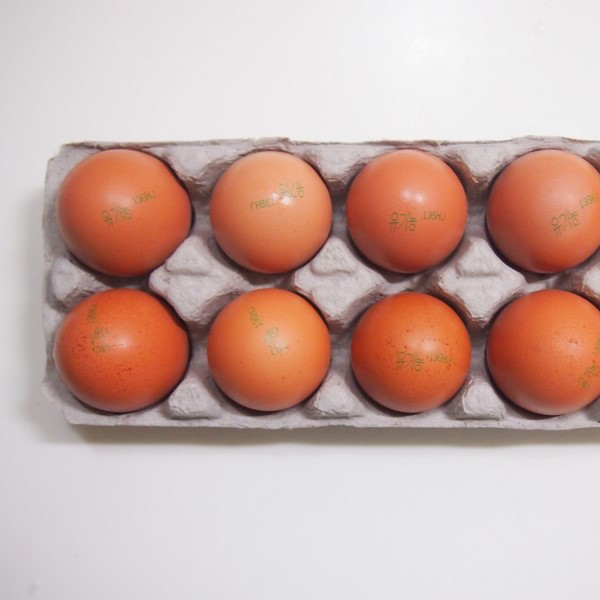egg: (54, 146, 600, 419)
